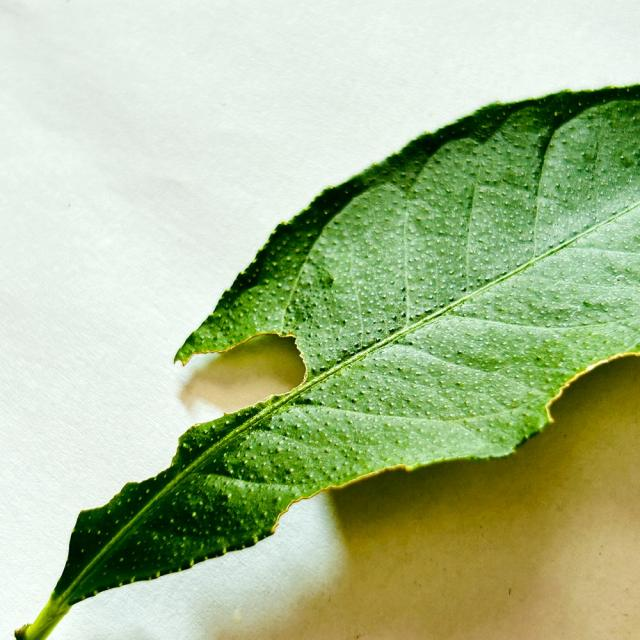Deficiency Leaf: (78, 340, 298, 514), (277, 456, 511, 534), (552, 360, 639, 428)
Lemon: (15, 85, 639, 639)
